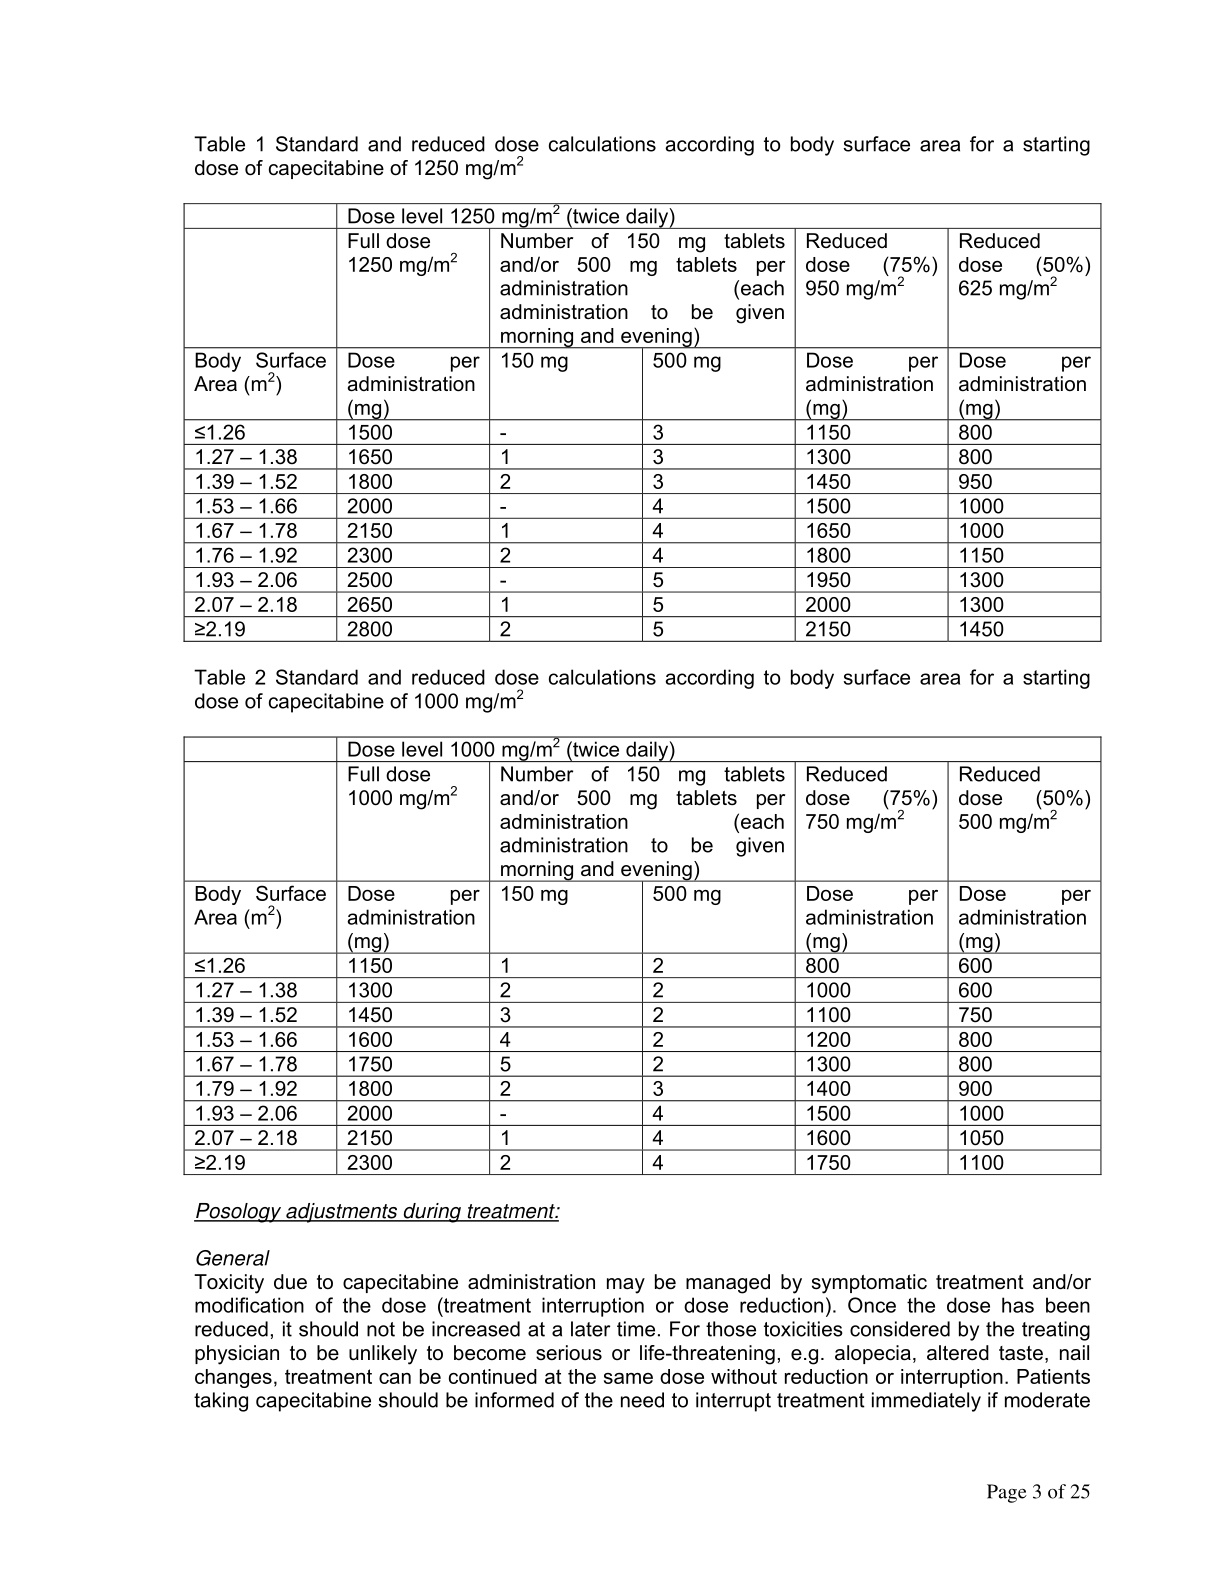merged_cells: (183, 202, 1102, 643), (183, 735, 1102, 1176)
